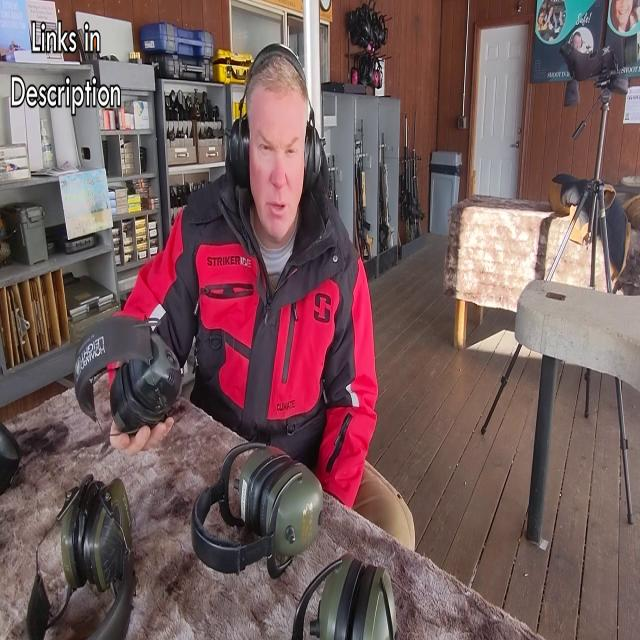earmuff: (226, 114, 254, 194), (304, 124, 329, 192)
